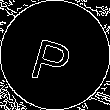P_N: (30, 26, 80, 84)
